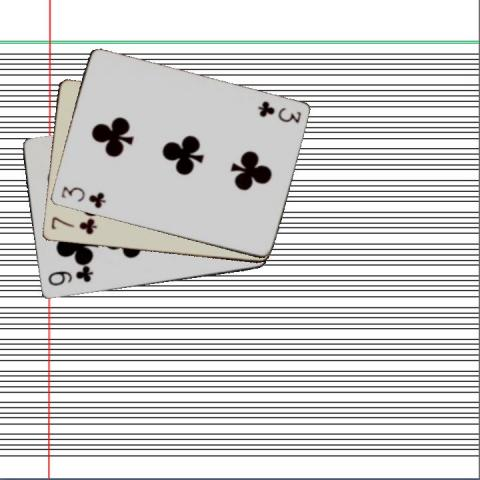3c: (57, 183, 108, 210), (255, 98, 302, 125)
7c: (48, 215, 98, 236)
9c: (44, 267, 95, 288)
